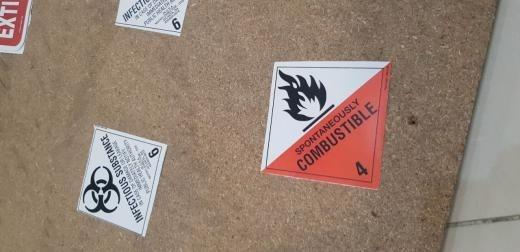infectious-substance: (77, 126, 169, 237), (113, 1, 187, 38)
spontaneously-combustible: (261, 62, 389, 186)
